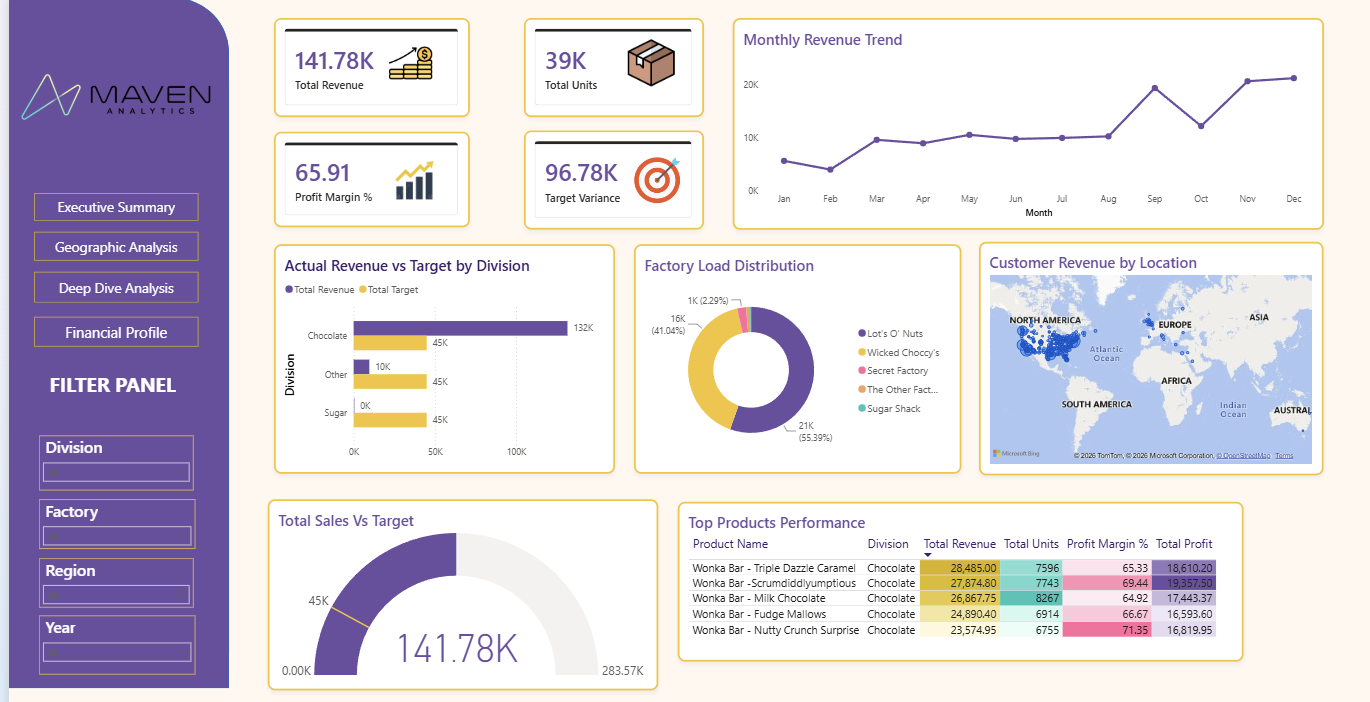

What the dashboard file says about the page in this screenshot:
{"tool":"powerbi","page":{"name":"Dashboard ","canvas":[1900,1000],"ordinal":5},"visuals":[{"type":"cardVisual","fields":{"Data":["Candy_Sales.Total Revenue"]},"box":[359.4,26.6,265.6,134.4],"z":0},{"type":"cardVisual","fields":{"Data":["Candy_Sales.Total Units"]},"box":[698.4,26.6,243.8,134.4],"z":1000},{"type":"cardVisual","fields":{"Data":["Candy_Sales.Profit Margin %"]},"box":[359.4,181.2,265.6,129.7],"z":2000},{"type":"cardVisual","fields":{"Data":["Candy_Sales.Target Variance"]},"box":[698.4,179.7,243.8,134.4],"z":3000},{"type":"clusteredBarChart","title":"Actual Revenue vs Target by Division","fields":{"Category":["Candy_Sales.Division"],"Y":["Candy_Sales.Total Revenue","Candy_Sales.Total Target"]},"box":[359.4,334.4,462.5,310.9],"z":4000},{"type":"map","title":"Customer Revenue by Location","fields":{"Size":["Candy_Sales.Total Revenue"],"Category":["Candy_Sales.City"]},"box":[1315.6,331.2,467.2,317.2],"z":5000},{"type":"donutChart","title":"Factory Load Distribution","fields":{"Category":["Candy_Products.Factory"],"Y":["Candy_Sales.Total Units"]},"box":[846.9,334.4,443.8,310.9],"z":6000},{"type":"shape","box":[0,0,298.4,935.9],"z":7000},{"type":"slicer","fields":{"Values":["Candy_Products.Factory"]},"box":[40.5,679.7,212.2,67.6],"z":8000},{"type":"slicer","fields":{"Values":["Candy_Sales.Division"]},"box":[40.5,593.2,209.5,74.3],"z":9000},{"type":"slicer","fields":{"Values":["Candy_Sales.Region"]},"box":[40.5,759.5,209.5,67.6],"z":10000},{"type":"textbox","box":[40.5,500,200,56.8],"z":11000},{"type":"tableEx","title":"Top Products Performance","fields":{"Values":["Candy_Sales.Product Name","Candy_Sales.Division","Candy_Sales.Total Revenue","Candy_Sales.Total Units","Candy_Sales.Profit Margin %","Candy_Sales.Total Profit"]},"box":[906.2,682.8,767.2,217.2],"z":12000},{"type":"lineChart","title":"Monthly Revenue Trend","fields":{"Category":["Candy_Sales.Month"],"Y":["Candy_Sales.Total Revenue"]},"box":[981.2,26.6,801.6,287.5],"z":13000},{"type":"slicer","fields":{"Values":["Candy_Sales.Year"]},"box":[40.5,837.8,212.2,79.7],"z":14000},{"type":"image","box":[509.4,57.8,68.8,60.9],"z":15000},{"type":"image","box":[835.9,42.2,70.3,90.6],"z":16000},{"type":"image","box":[492.2,203.1,115.6,87.5],"z":17000},{"type":"image","box":[835.9,212.5,85.9,70.3],"z":18000},{"type":"image","box":[17.2,46.9,256.2,173.4],"z":19000},{"type":"gauge","title":"Total Sales Vs  Target","fields":{"Y":["Candy_Sales.Total Revenue"],"TargetValue":["Candy_Sales.Total Target"]},"box":[351.6,679.7,529.7,259.4],"z":20000},{"type":"actionButton","box":[33.8,264.9,223,37.8],"z":21000},{"type":"actionButton","box":[33.8,317.6,223,39.2],"z":22000},{"type":"actionButton","box":[33.8,371.6,223,41.9],"z":23000},{"type":"actionButton","box":[33.8,432.4,223,40.5],"z":24000}]}

Visuals, with their boxes in screenshot pixels (x1, y1, x2, y2), scaled from the page's 1900x1000 canvas onto the 1370x702 screenshot:
cardVisual - Candy_Sales.Total Revenue: left=259, top=19, right=451, bottom=113
cardVisual - Candy_Sales.Total Units: left=504, top=19, right=679, bottom=113
cardVisual - Candy_Sales.Profit Margin %: left=259, top=127, right=451, bottom=218
cardVisual - Candy_Sales.Target Variance: left=504, top=126, right=679, bottom=220
"Actual Revenue vs Target by Division" clusteredBarChart: left=259, top=235, right=593, bottom=453
"Customer Revenue by Location" map: left=949, top=233, right=1285, bottom=455
"Factory Load Distribution" donutChart: left=611, top=235, right=931, bottom=453
shape: left=0, top=0, right=215, bottom=657
slicer - Candy_Products.Factory: left=29, top=477, right=182, bottom=525
slicer - Candy_Sales.Division: left=29, top=416, right=180, bottom=469
slicer - Candy_Sales.Region: left=29, top=533, right=180, bottom=581
textbox: left=29, top=351, right=173, bottom=391
"Top Products Performance" tableEx: left=653, top=479, right=1207, bottom=632
"Monthly Revenue Trend" lineChart: left=707, top=19, right=1285, bottom=220
slicer - Candy_Sales.Year: left=29, top=588, right=182, bottom=644
image: left=367, top=41, right=417, bottom=83
image: left=603, top=30, right=653, bottom=93
image: left=355, top=143, right=438, bottom=204
image: left=603, top=149, right=665, bottom=199
image: left=12, top=33, right=197, bottom=155
"Total Sales Vs  Target" gauge: left=254, top=477, right=635, bottom=659
actionButton: left=24, top=186, right=185, bottom=212
actionButton: left=24, top=223, right=185, bottom=250
actionButton: left=24, top=261, right=185, bottom=290
actionButton: left=24, top=304, right=185, bottom=332
